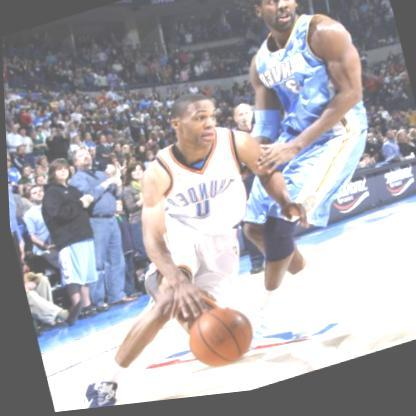basketball: (179, 302, 255, 379)
